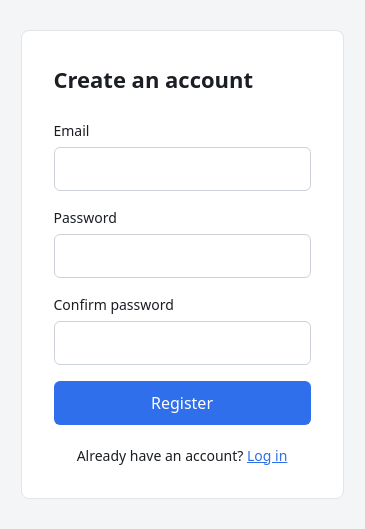
Test: register page › shows the server error when the email is taken
Type "jane@example.com" into the field labelled "Email" at [182, 168], box [54,146,310,190]
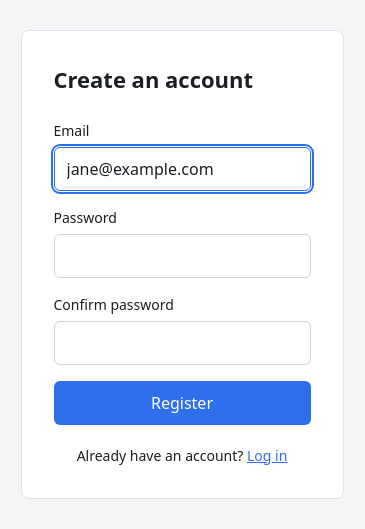
Type "secret123" into the password field labelled "Password" at [182, 256], box [54,234,310,278]
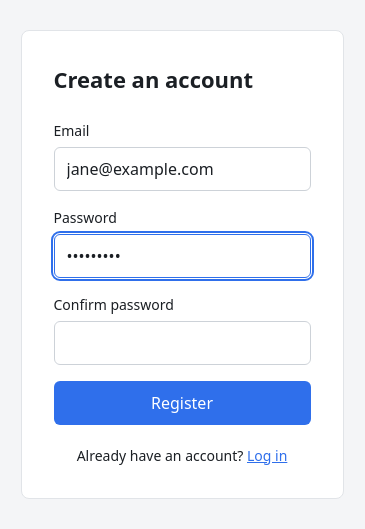
Type "secret123" into the password field labelled "Confirm password" at [182, 342], box [54,320,310,364]
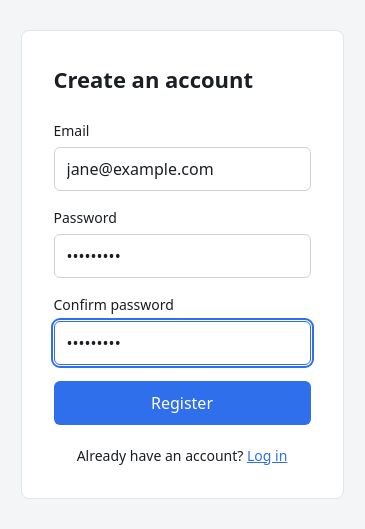
Click the button "Register" at [182, 402], box [54,380,310,424]
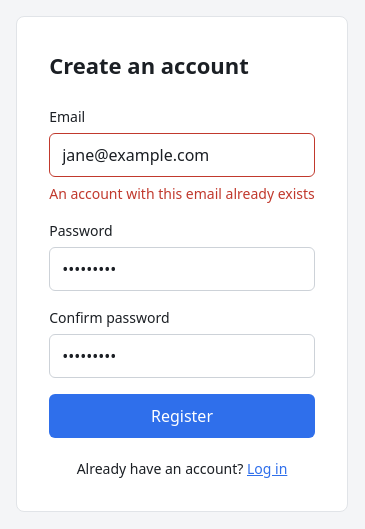
Check: the text "An account with this email already exists" is shown, box [49,183,315,204]
